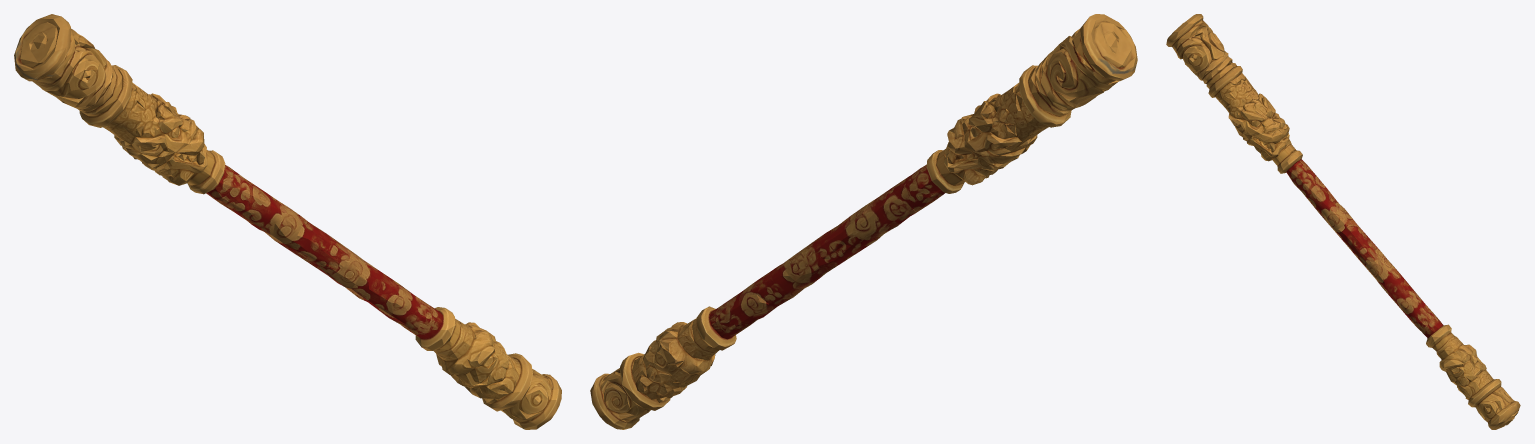
File: Dague.glb
3 renders of one model, left to right at view 1: azimuth 30°, elevation 25°; view 2: azimuth 150°, elevation 25°; view 3: azimuth 330°, elevation 25°, orthographic. The views are drawn at different scales.
Parts seen in each view (by area): view 1: Mesh_0; view 2: Mesh_0; view 3: Mesh_0.
Part boxes in pixels (x1,y1,x2,y2): Mesh_0: (14,14,561,429); Mesh_0: (590,14,1137,429); Mesh_0: (1166,14,1520,429).
Size of the model in its own units: 1.9 by 1.78 by 0.2288.
Materials: 1 (1 with a texture image).
